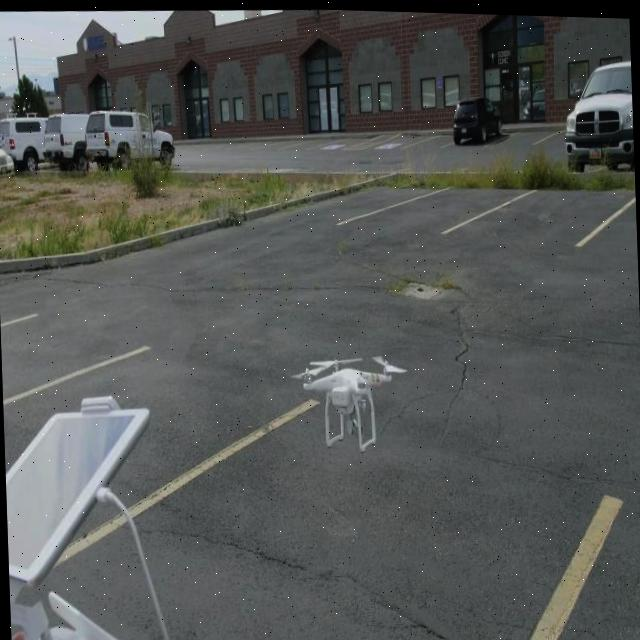drone: (294, 346, 406, 453)
